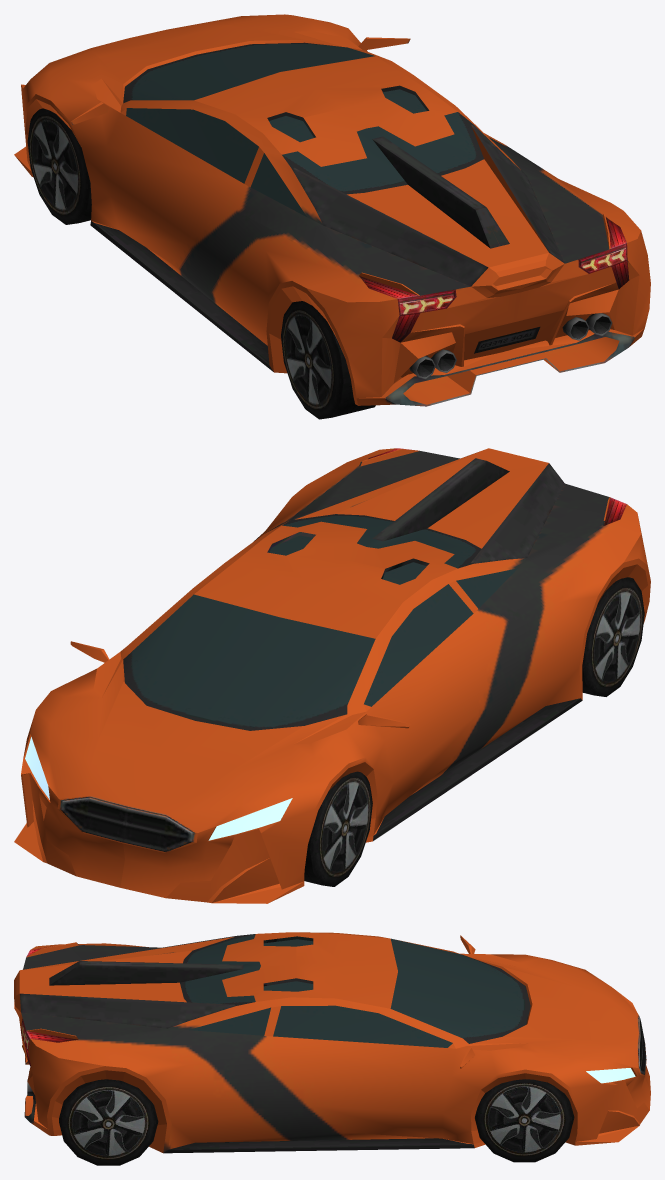
The model's file is car_73.glb.
3 renders of one model, top to bottom at view 1: azimuth 30°, elevation 25°; view 2: azimuth 150°, elevation 25°; view 3: azimuth 270°, elevation 25°, orthographic. The views are drawn at different scales.
Visible parts, largest first — view 1: car_73; view 2: car_73; view 3: car_73.
Boxes of the visible parts, bbox=[...] form: car_73: bbox=[14, 14, 650, 419]; car_73: bbox=[14, 448, 650, 903]; car_73: bbox=[14, 932, 650, 1165].
Size of the model in its own units: 22.37 by 11.53 by 45.85.
Materials: 11 (11 with a texture image).
